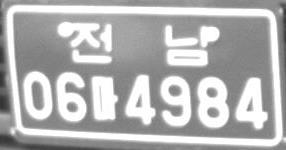0: (22, 69, 53, 119)
4: (234, 76, 268, 130), (125, 74, 156, 125)
6: (56, 70, 88, 121)
8: (196, 75, 230, 129)
9: (160, 75, 192, 127)
마: (90, 75, 118, 121)
전남_D: (68, 21, 211, 67)
